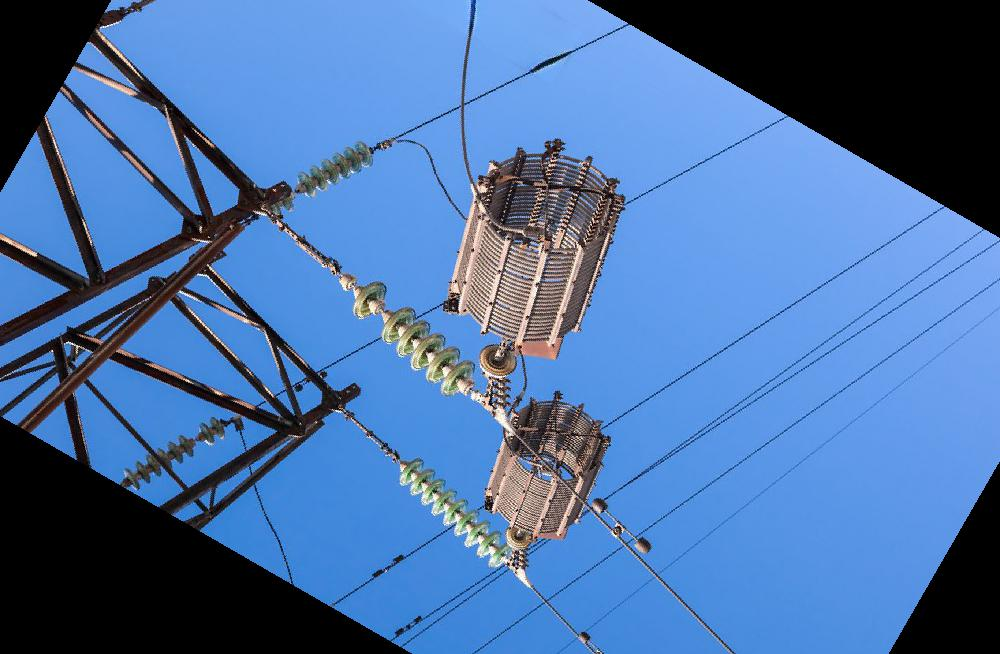insulator: (347, 276, 481, 403), (393, 453, 521, 573), (120, 416, 229, 493), (289, 137, 379, 205)
insulator_stringdrop: (345, 276, 418, 343), (176, 420, 216, 459)
